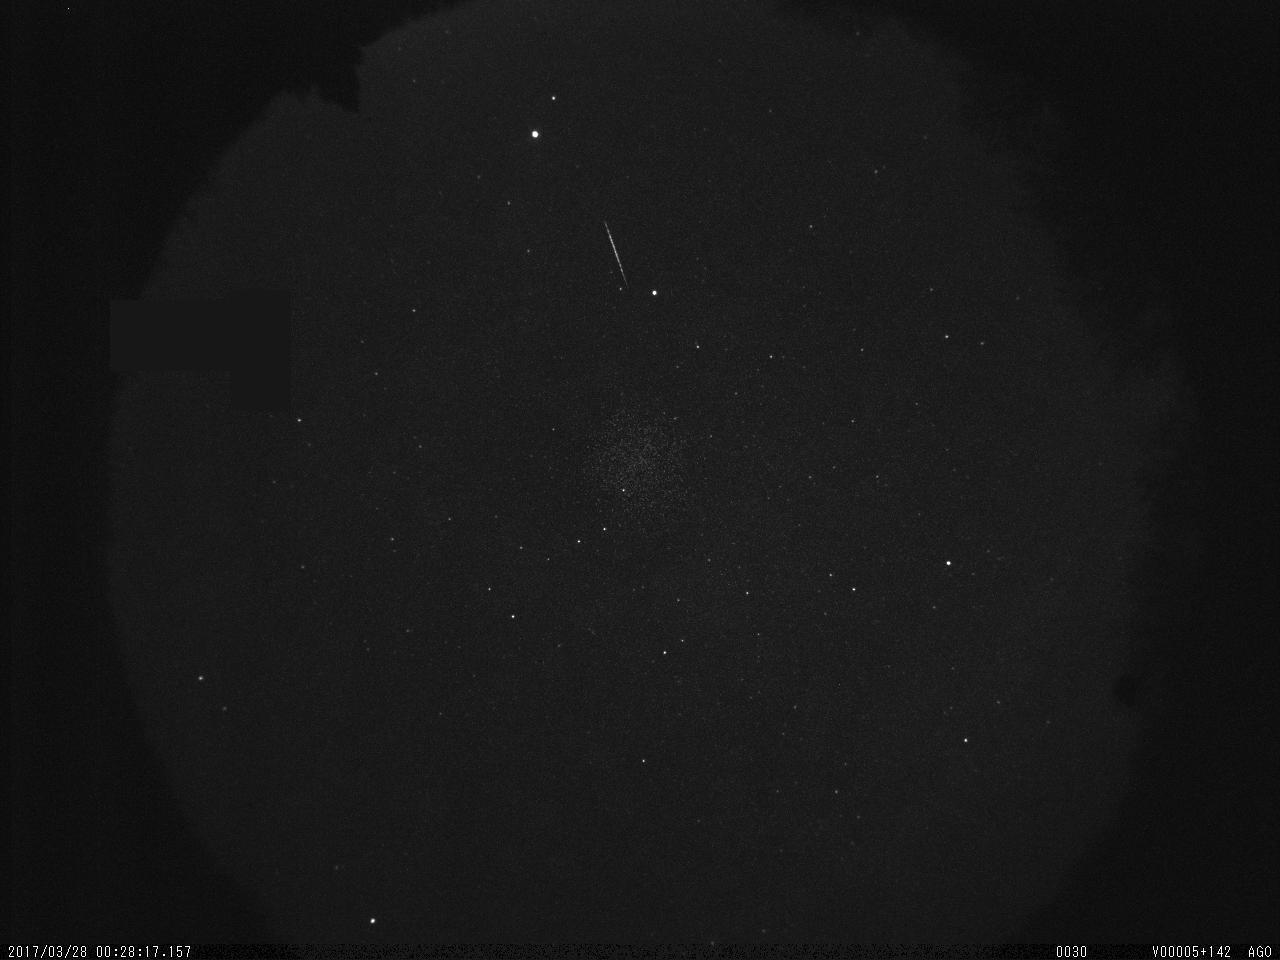meteor: (595, 215, 639, 298)
